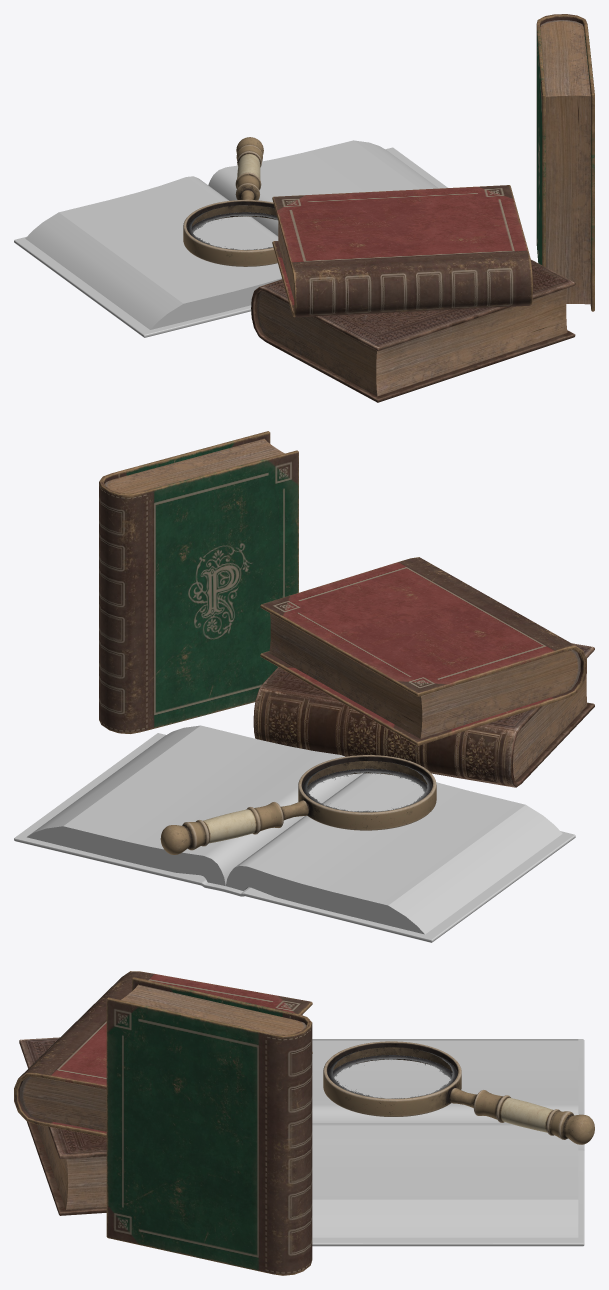
Rendered from Magnifier.fbx.
3 renders of one model, top to bottom at view 1: azimuth 30°, elevation 25°; view 2: azimuth 150°, elevation 25°; view 3: azimuth 270°, elevation 25°, orthographic. The views are drawn at different scales.
Parts seen in each view (by area): view 1: Open_book, Book_3, Book_1, Book_2, Magnifier; view 2: Open_book, Book_2, Book_3, Book_1, Magnifier; view 3: Book_2, Open_book, Book_3, Magnifier, Book_1.
Boxes of the visible parts, x1=… form: Open_book: x1=14, y1=140, x2=447, y2=337; Book_3: x1=272, y1=185, x2=532, y2=317; Book_1: x1=251, y1=259, x2=575, y2=402; Book_2: x1=536, y1=14, x2=594, y2=311; Magnifier: x1=183, y1=137, x2=277, y2=266; Open_book: x1=14, y1=725, x2=575, y2=942; Book_2: x1=99, y1=431, x2=298, y2=733; Book_3: x1=260, y1=557, x2=586, y2=745; Book_1: x1=253, y1=643, x2=594, y2=787; Magnifier: x1=160, y1=755, x2=436, y2=854; Book_2: x1=106, y1=977, x2=312, y2=1275; Open_book: x1=312, y1=1039, x2=584, y2=1246; Book_3: x1=14, y1=971, x2=312, y2=1137; Magnifier: x1=323, y1=1041, x2=594, y2=1144; Book_1: x1=19, y1=1037, x2=106, y2=1215.
Bounding box in the file's own units: 40.27 × 19.28 × 42.16.
